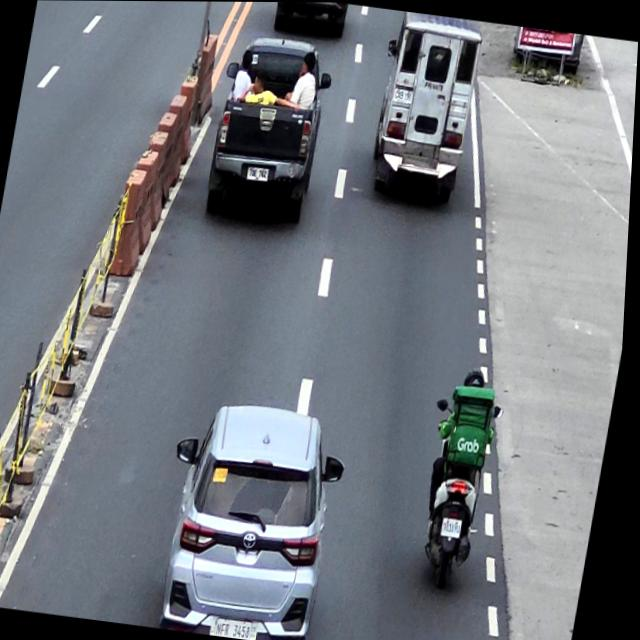Car: (153, 394, 358, 640), (203, 33, 337, 227)
Jeep: (363, 9, 487, 209)
License-Plate: (221, 616, 258, 639), (446, 517, 467, 538), (392, 87, 415, 103), (248, 166, 270, 181)
Motorcycle: (411, 396, 509, 592)
